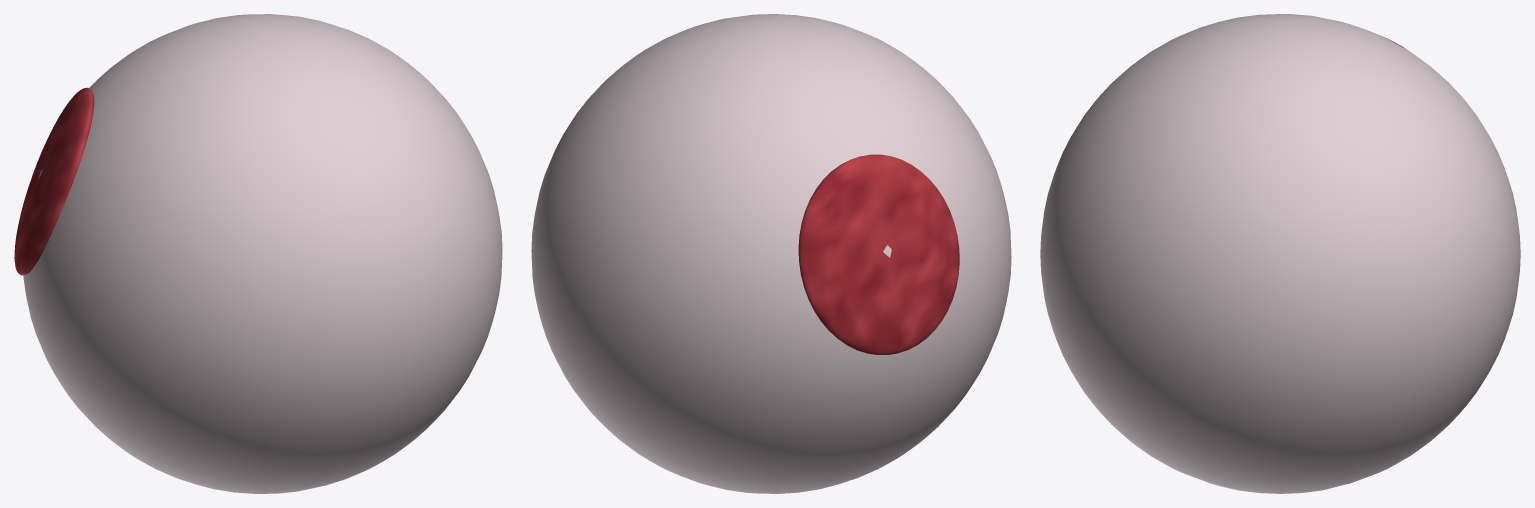
File: hafta_13.glb
3 views of the same model, side by side, from view 1: azimuth 30°, elevation 25°; view 2: azimuth 150°, elevation 25°; view 3: azimuth 270°, elevation 25° (orthographic).
Visible parts, largest first — view 1: Amniyon_kesesi, Plasenta; view 2: Amniyon_kesesi, Plasenta; view 3: Amniyon_kesesi.
Boxes of the visible parts, x1,y1,x2,y2 form: Amniyon_kesesi: [23, 14, 502, 493]; Plasenta: [14, 87, 94, 275]; Amniyon_kesesi: [531, 14, 1011, 493]; Plasenta: [798, 154, 959, 354]; Amniyon_kesesi: [1040, 14, 1520, 493].
Size of the model in its own units: 1.44 by 1.44 by 1.44.
